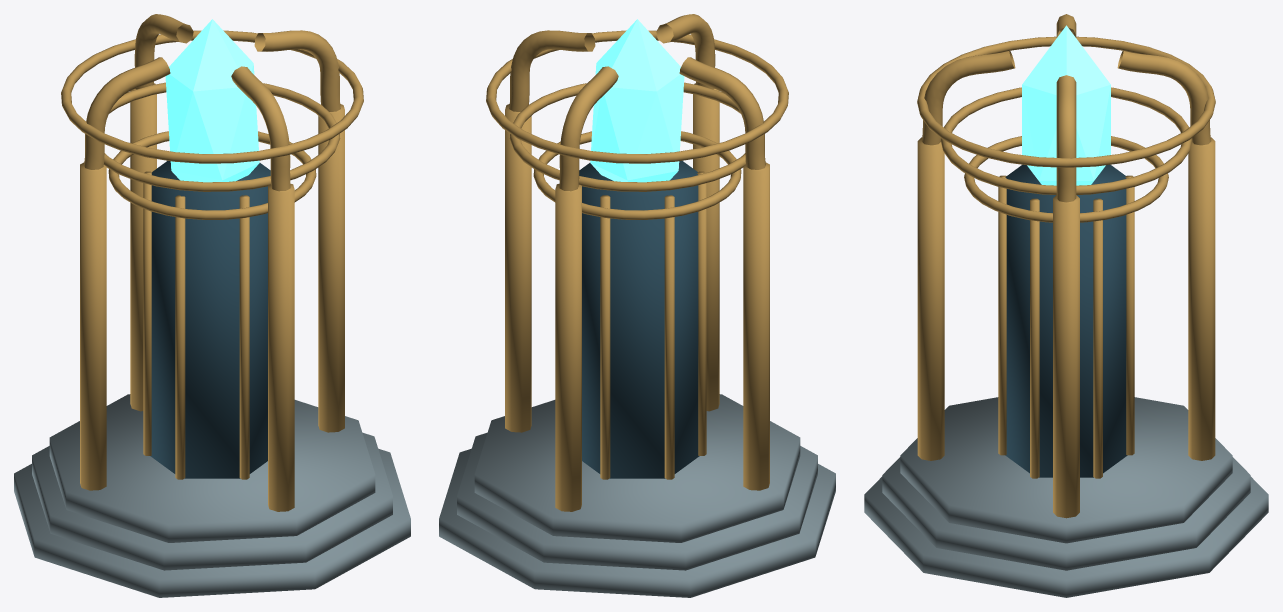
The model's file is spire-3.glb.
3 views of the same model, side by side, from view 1: azimuth 30°, elevation 25°; view 2: azimuth 150°, elevation 25°; view 3: azimuth 270°, elevation 25° (orthographic).
Parts seen in each view (by area): view 1: Foundation_Carved blue limestone.002, Turret_Aged brass.002, Foundation_Royal blue enamel.002, Core_Aged brass.002, Core_Storm crystal.002, Foundation_Aged brass.002; view 2: Foundation_Carved blue limestone.002, Turret_Aged brass.002, Foundation_Royal blue enamel.002, Core_Aged brass.002, Core_Storm crystal.002, Foundation_Aged brass.002; view 3: Foundation_Carved blue limestone.002, Turret_Aged brass.002, Foundation_Royal blue enamel.002, Core_Aged brass.002, Foundation_Aged brass.002, Core_Storm crystal.002.
Part boxes in pixels (left/top/right/bottom): Foundation_Carved blue limestone.002: left=14, top=394, right=410, bottom=597; Turret_Aged brass.002: left=80, top=14, right=344, bottom=511; Foundation_Royal blue enamel.002: left=150, top=160, right=270, bottom=478; Core_Aged brass.002: left=61, top=30, right=363, bottom=219; Core_Storm crystal.002: left=165, top=19, right=259, bottom=182; Foundation_Aged brass.002: left=143, top=171, right=249, bottom=479; Foundation_Carved blue limestone.002: left=439, top=394, right=835, bottom=597; Turret_Aged brass.002: left=505, top=14, right=769, bottom=511; Foundation_Royal blue enamel.002: left=579, top=160, right=699, bottom=478; Core_Aged brass.002: left=486, top=30, right=788, bottom=219; Core_Storm crystal.002: left=590, top=19, right=684, bottom=182; Foundation_Aged brass.002: left=600, top=171, right=706, bottom=479; Foundation_Carved blue limestone.002: left=864, top=397, right=1268, bottom=597; Turret_Aged brass.002: left=917, top=14, right=1215, bottom=518; Foundation_Royal blue enamel.002: left=1005, top=164, right=1127, bottom=477; Core_Aged brass.002: left=917, top=36, right=1215, bottom=222; Foundation_Aged brass.002: left=998, top=175, right=1134, bottom=478; Core_Storm crystal.002: left=1022, top=25, right=1110, bottom=185.
Size of the model in its own units: 2.24 by 2.98 by 2.24.
